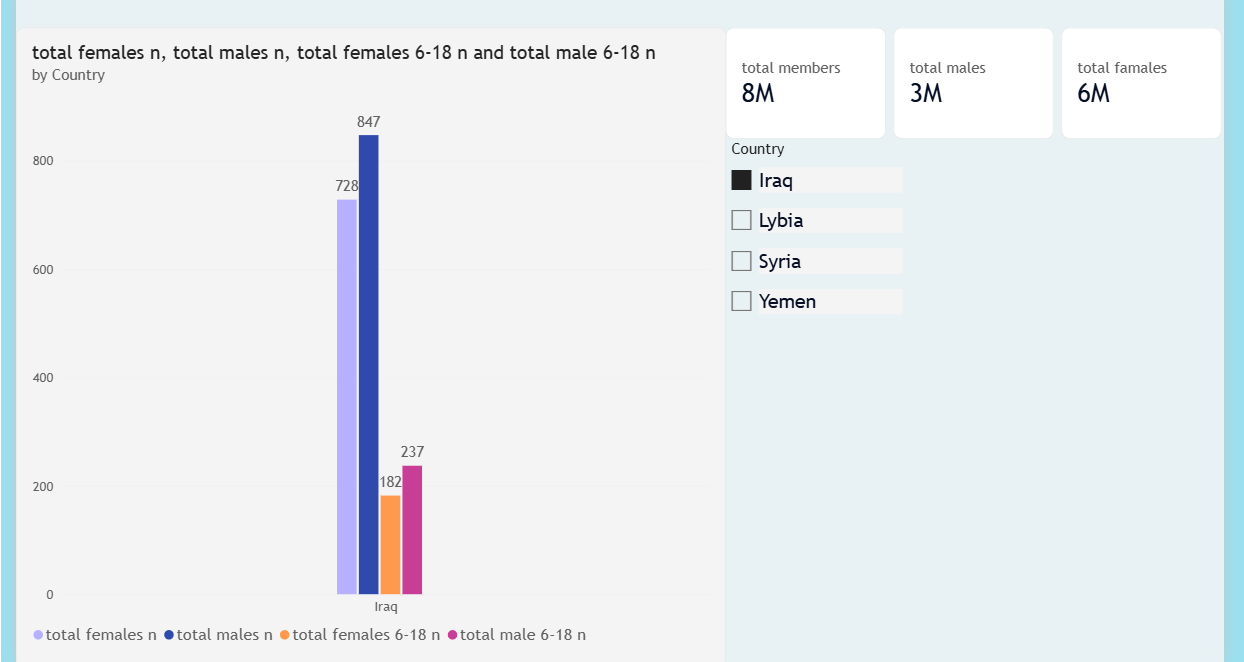

The page's visual inventory and layout, read from the dashboard file:
{"tool":"powerbi","page":{"name":"needs","canvas":[1280,720],"ordinal":3},"visuals":[{"type":"clusteredColumnChart","fields":{"Category":["Clothes.Country"],"Y":["Needs.total females n","Needs.total males n","Needs.total females 6-18 n","Needs.total male 6-18 n"]},"box":[0,42.9,752.4,677.6],"z":0},{"type":"cardVisual","fields":{"Data":["Clothes.total members","Clothes.total males","Clothes.total famales"]},"box":[752.9,43.7,527.9,118.2],"z":1000},{"type":"slicer","fields":{"Values":["Needs.Country"]},"box":[751.3,161.9,189.4,280.1],"z":2000}]}

Visuals, with their boxes on the page's 1280x720 design canvas (x1, y1, x2, y2). These are canvas units, not pixel positions in the 1244x662 screenshot, which may show the page scaled, cropped or inside an application window:
clusteredColumnChart - Clothes.Country x Needs.total females n: box=[0, 43, 752, 720]
cardVisual - Clothes.total members x Clothes.total males: box=[753, 44, 1281, 162]
slicer - Needs.Country: box=[751, 162, 941, 442]
